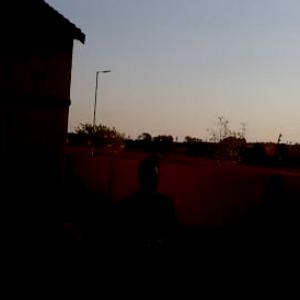follow: (110, 153, 180, 299)
